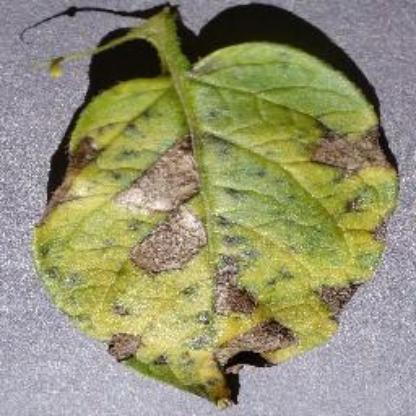Early-Blight: (33, 7, 405, 406)
